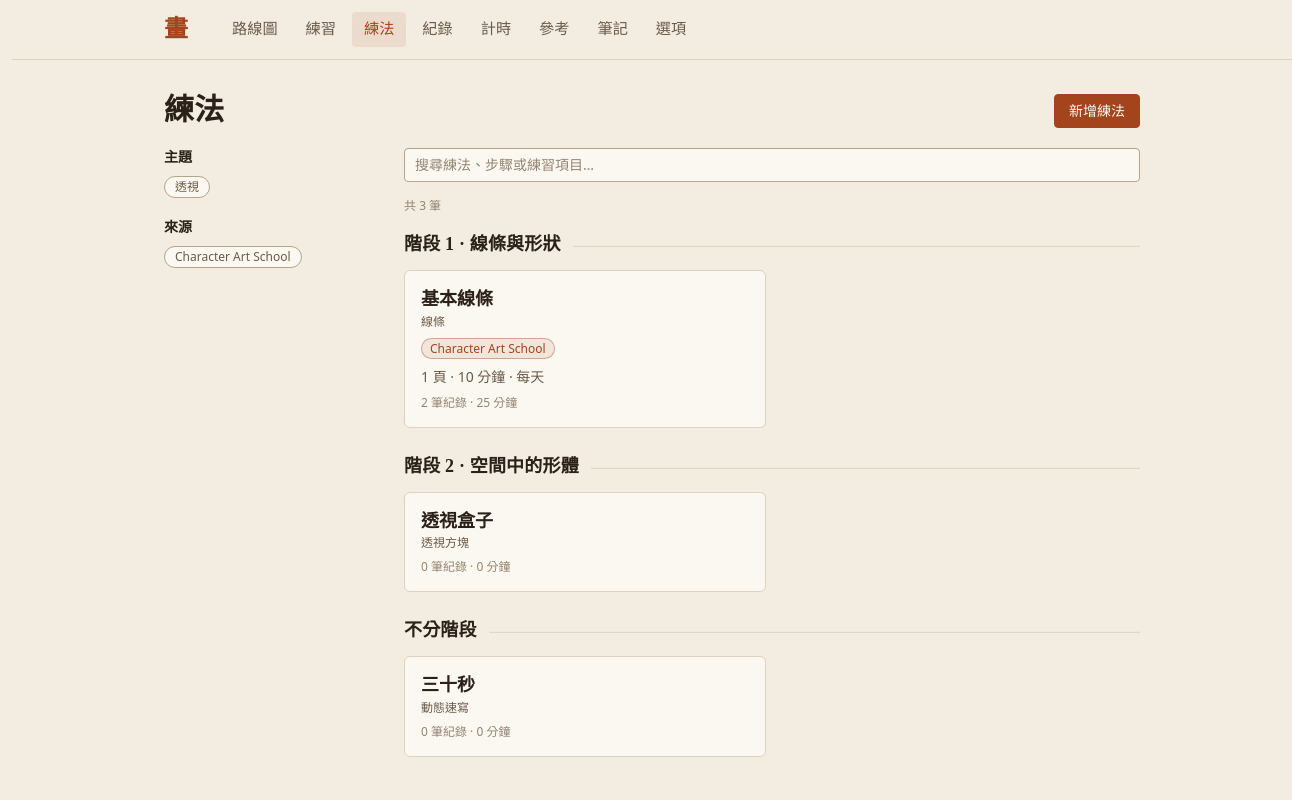
Test: the drill library › keeps the topic and source filters in the URL and sends them as topic_id and source_id
The width and height of the screenshot is (1292, 800).
What coordinates should you click on to do the following:
click the button "透視"
I would click on:
 (187, 187)
Its box is [164,176,210,198].
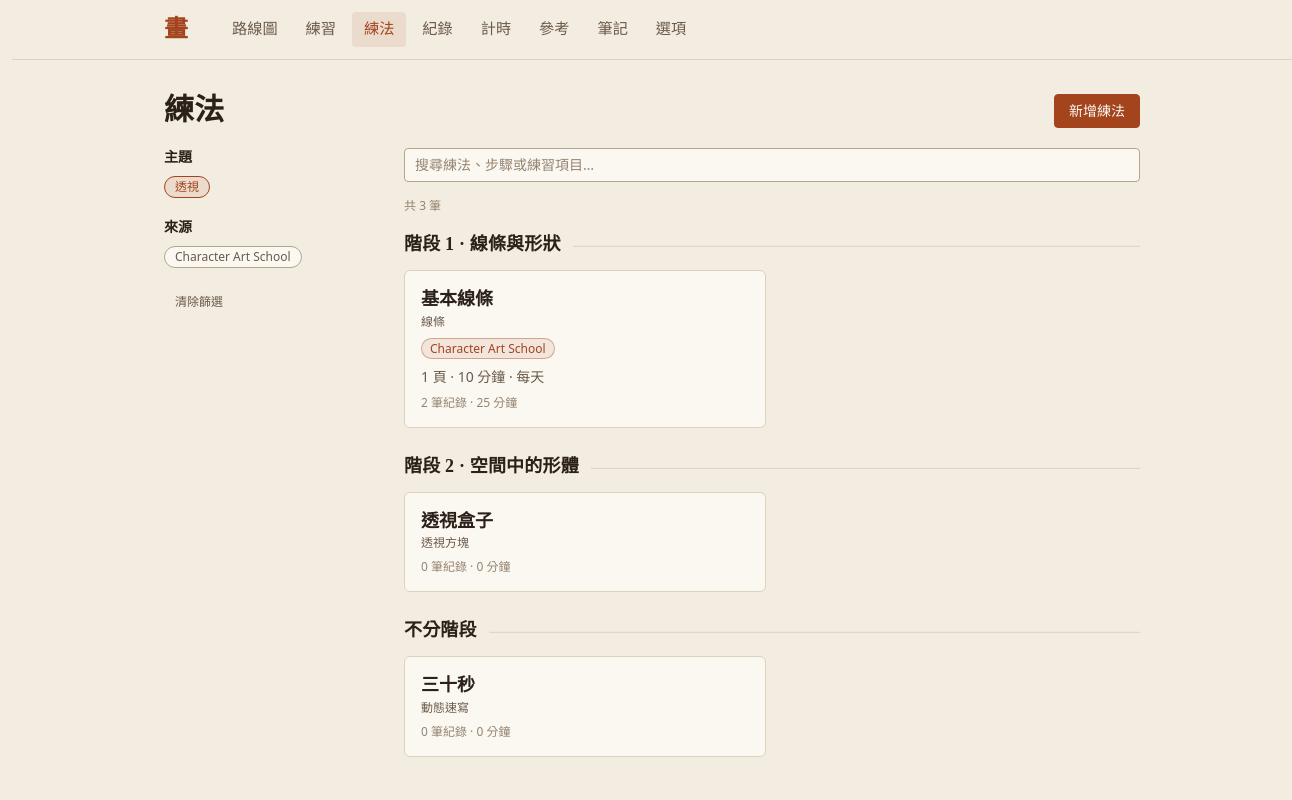
What coordinates should you click on to do the following:
click the button "Character Art School"
I would click on:
 (233, 257)
Its box is [164,246,302,268].
(page scrolled)
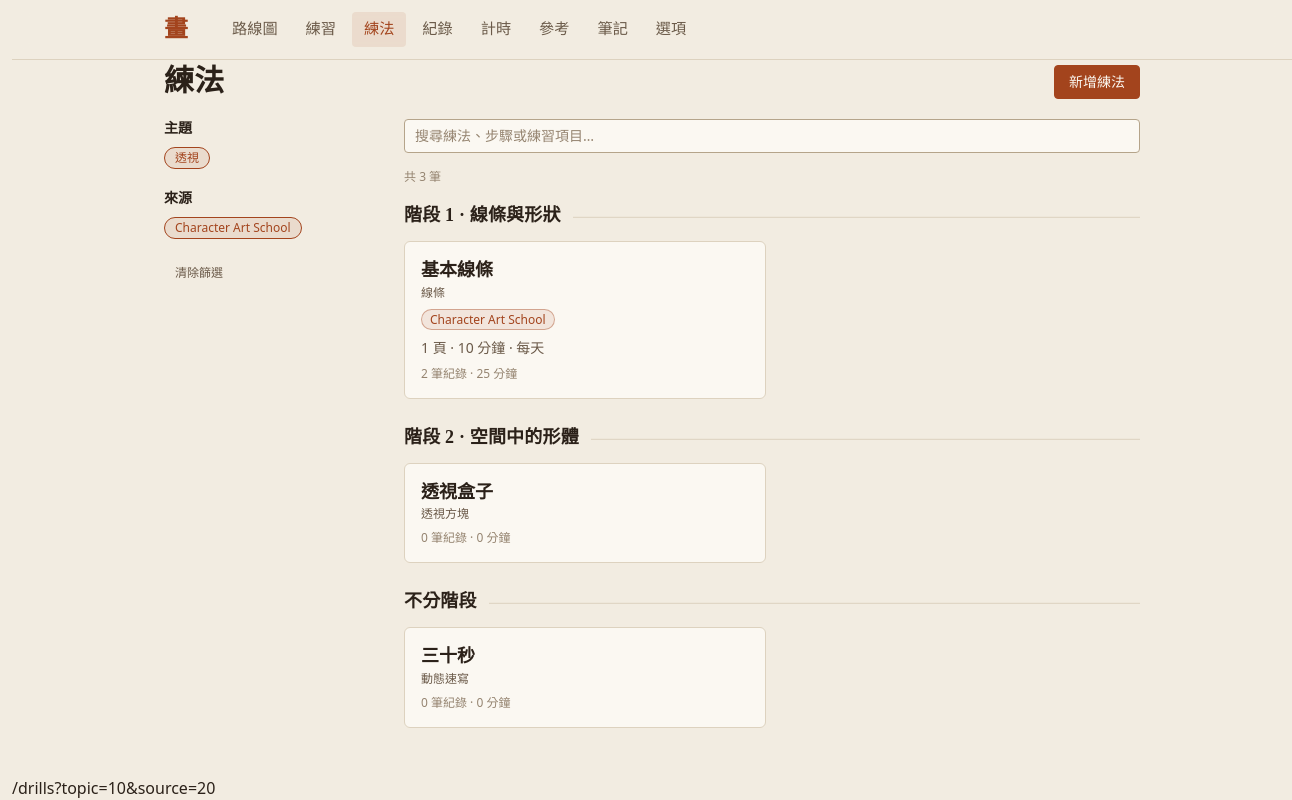
Check: the text with test id "location" reads "/drills?topic=10&source=20", box [12,777,215,799]
